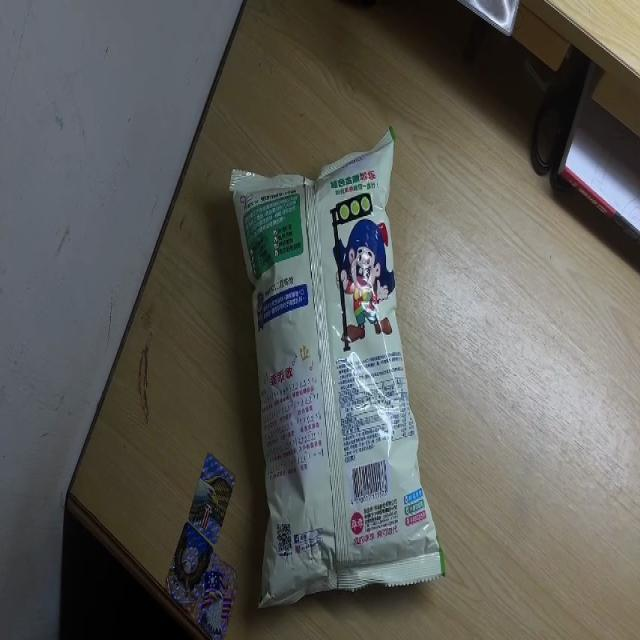Good-Luck: (227, 123, 445, 612)
